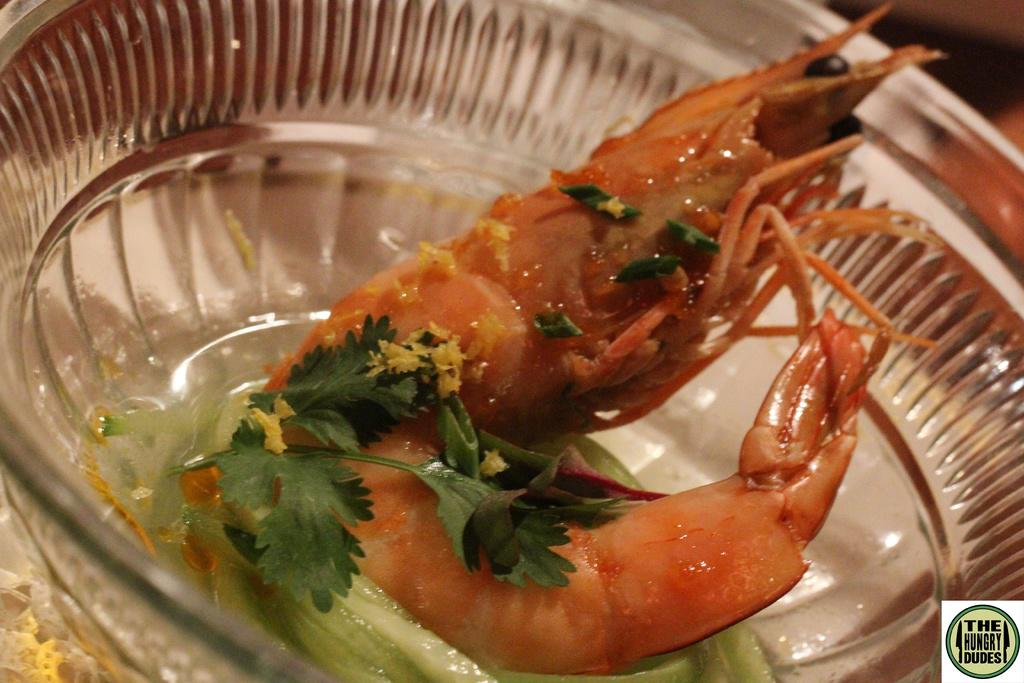Lobster: (173, 0, 948, 675)
